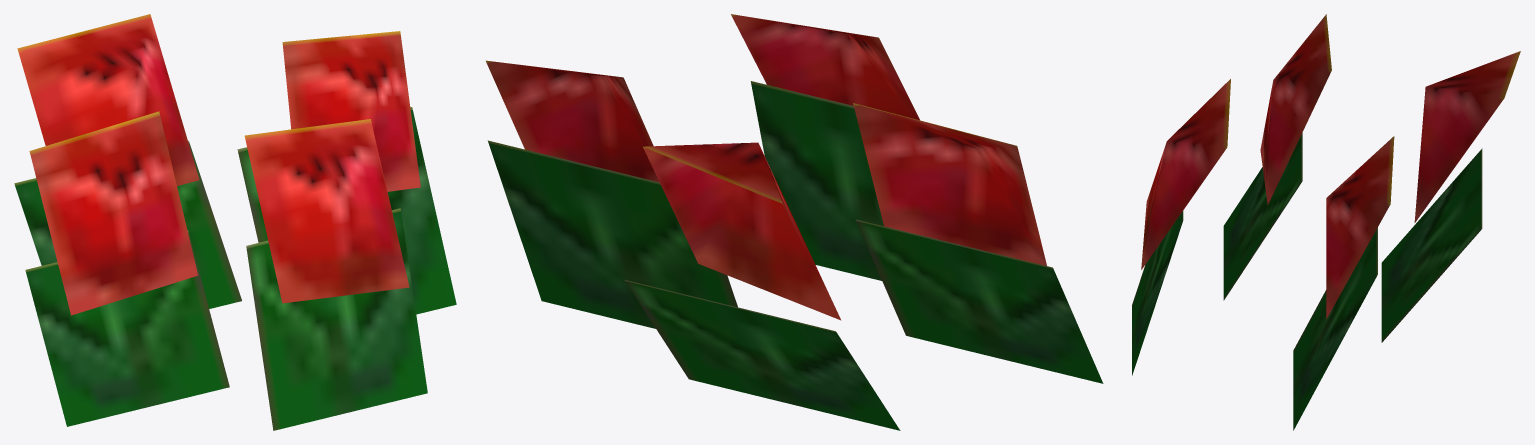
File: flw_tulip_rd.dae
3 views of the same model, side by side, from view 1: azimuth 30°, elevation 25°; view 2: azimuth 150°, elevation 25°; view 3: azimuth 270°, elevation 25° (orthographic). The views are drawn at different scales.
Parts seen in each view (by area): view 1: flw_tulip_rd; view 2: flw_tulip_rd; view 3: flw_tulip_rd.
Boxes of the visible parts, x1,y1,x2,y2 form: flw_tulip_rd: (14, 14, 456, 430); flw_tulip_rd: (486, 14, 1103, 430); flw_tulip_rd: (1132, 14, 1520, 430).
Bounding box in the file's own units: 30.95 × 17.79 × 25.83.
1 material, 1 textured.
